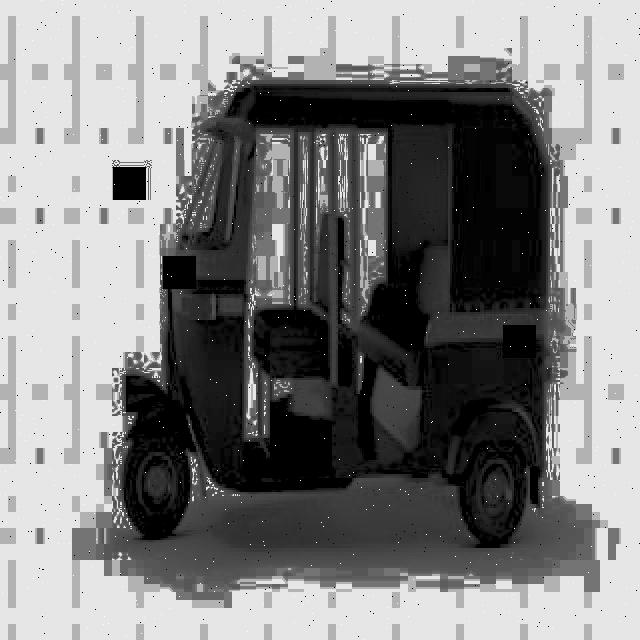Auto-Rickshaw: (100, 72, 556, 578)
